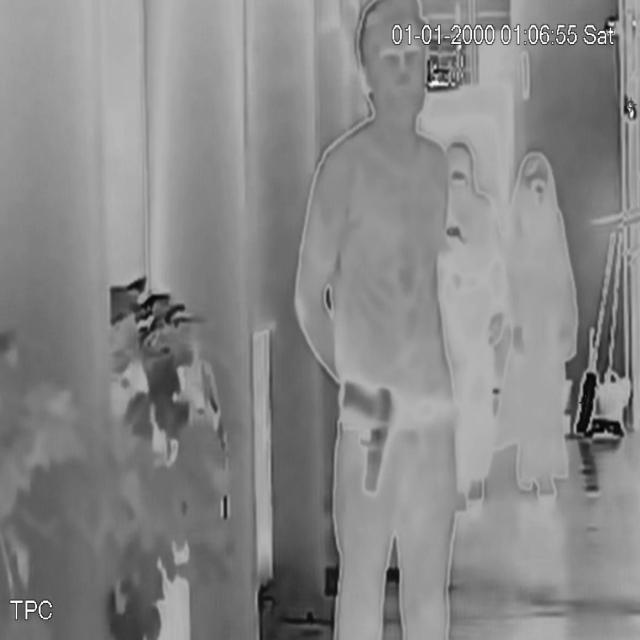Weapon: (337, 373, 399, 515)
